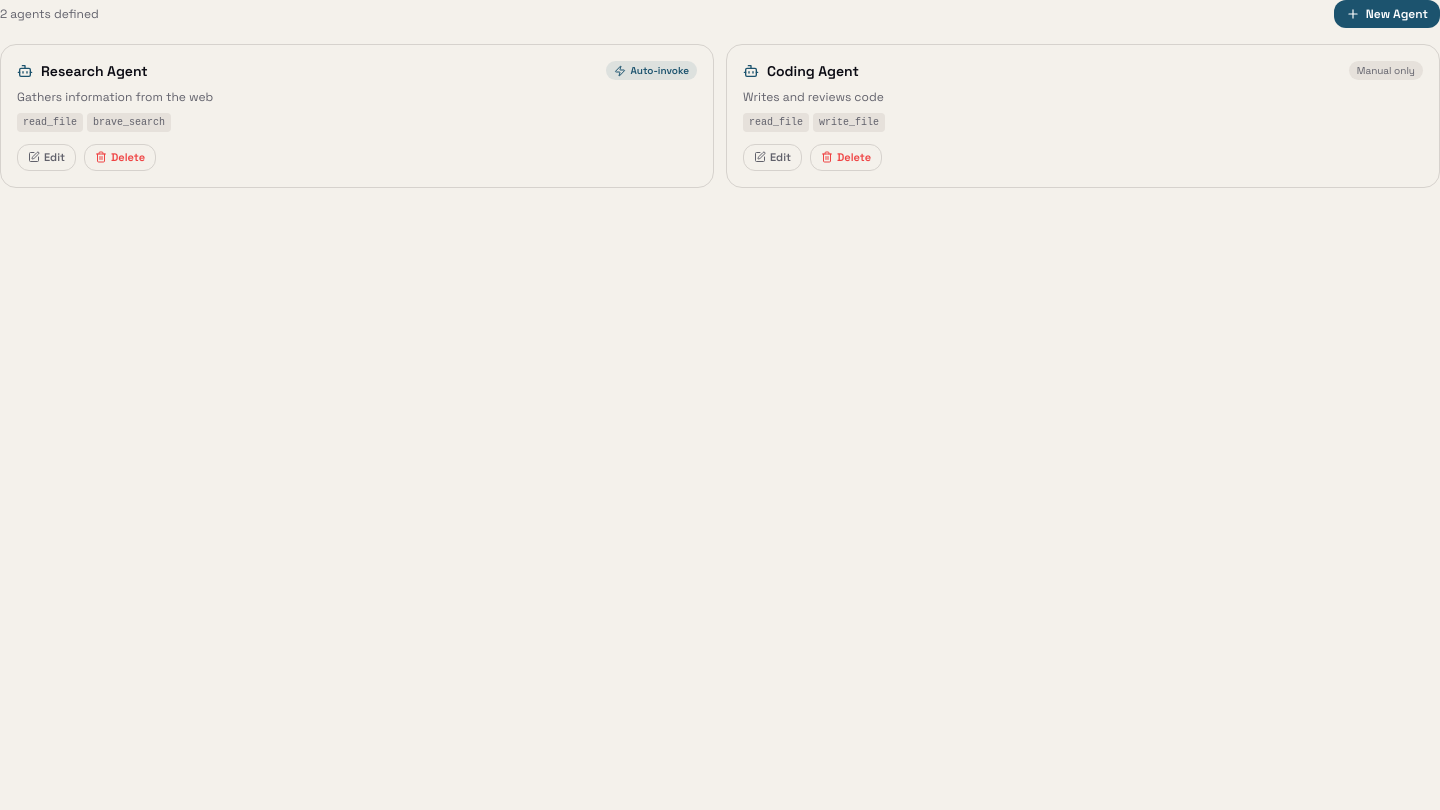
Test: AgentsPanel › opens edit dialog when Edit is clicked
Click the button "Edit" below "brave_search".
click(46, 157)  # box left=17, top=144, right=76, bottom=170
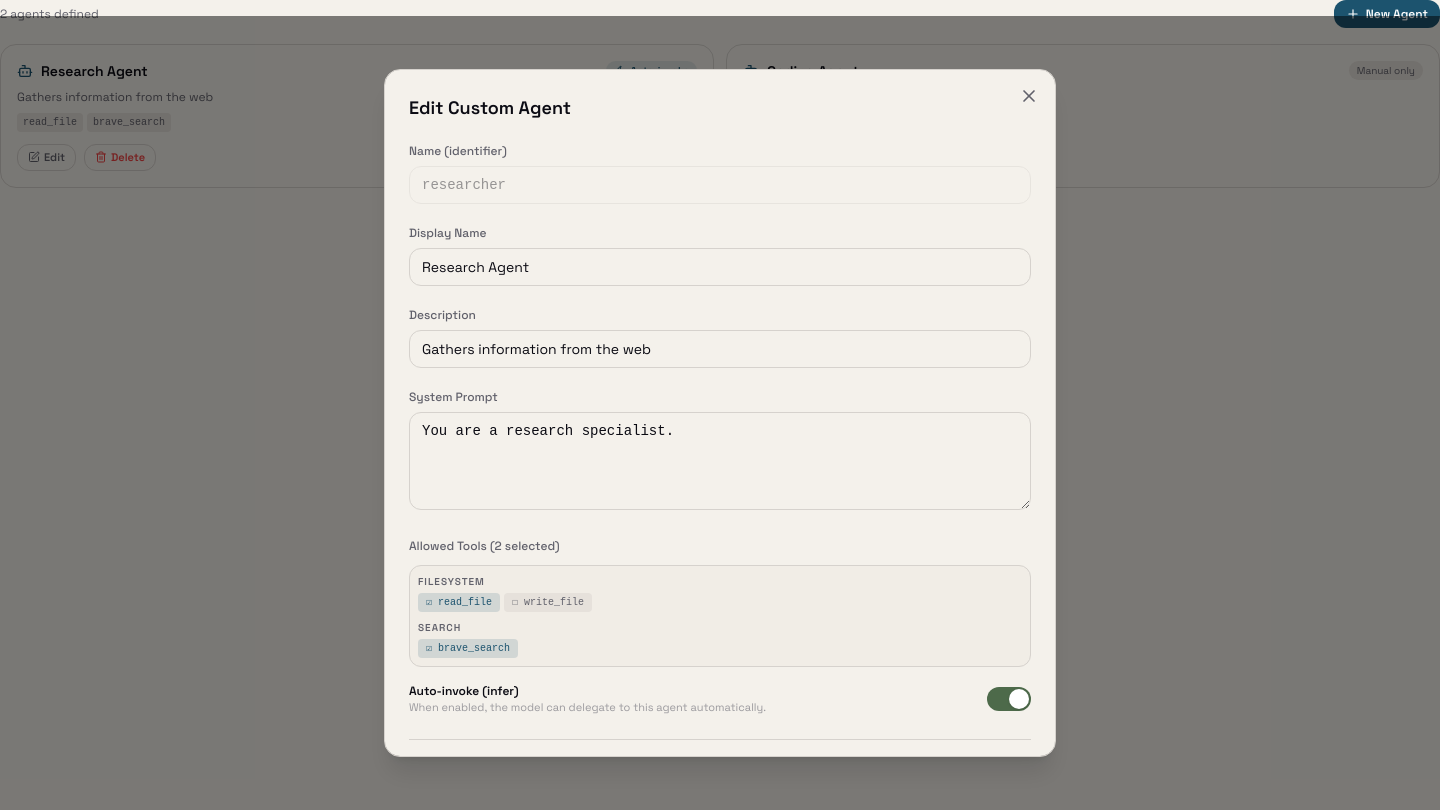
Expected: the dialog "Edit Custom Agent" is shown, left=384, top=69, right=1056, bottom=757
